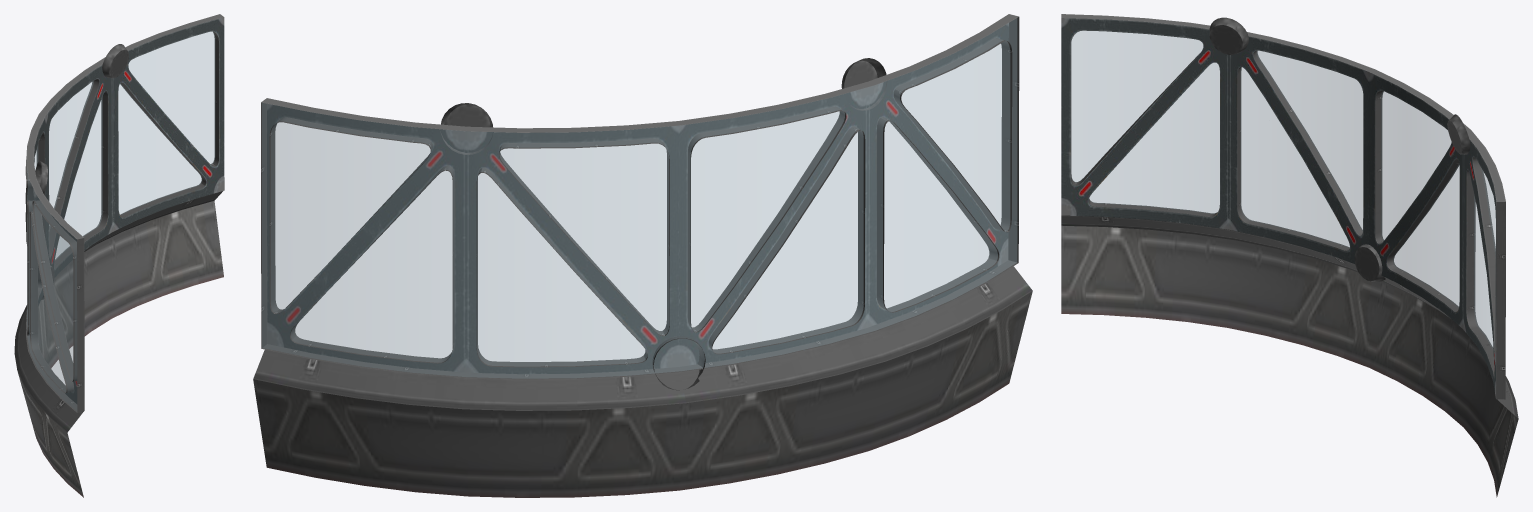
File: sf_wall_window_corner_round.glb
The picture shows the model from 3 angles, left to right: view 1: azimuth 30°, elevation 25°; view 2: azimuth 150°, elevation 25°; view 3: azimuth 270°, elevation 25°; orthographic projection. The views are drawn at different scales.
Parts seen in each view (by area): view 1: WallWindow_Corner_Round_Inner; view 2: WallWindow_Corner_Round_Inner; view 3: WallWindow_Corner_Round_Inner.
Part boxes in pixels (x1,y1,x2,y2): WallWindow_Corner_Round_Inner: (14, 14, 224, 497); WallWindow_Corner_Round_Inner: (253, 14, 1032, 497); WallWindow_Corner_Round_Inner: (1061, 14, 1518, 497).
Bounding box in the file's own units: 4.2 × 3.17 × 4.2.
Materials: 4 (3 with a texture image).
